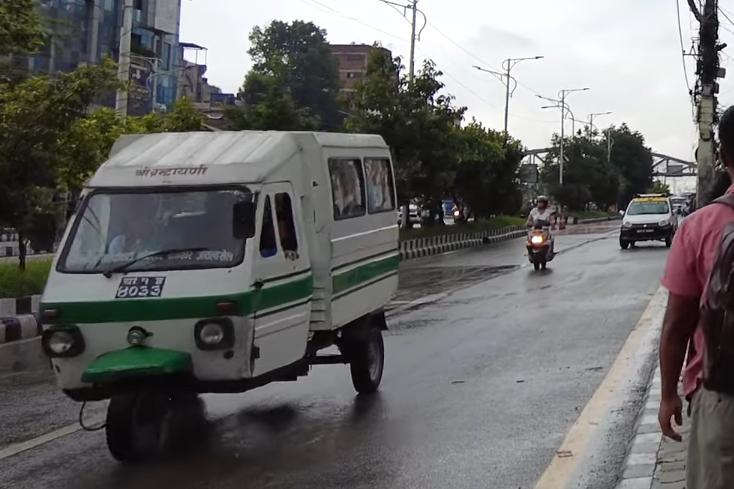scooter: (521, 216, 564, 276)
taxi: (617, 190, 677, 252)
tempo: (41, 126, 403, 471)
